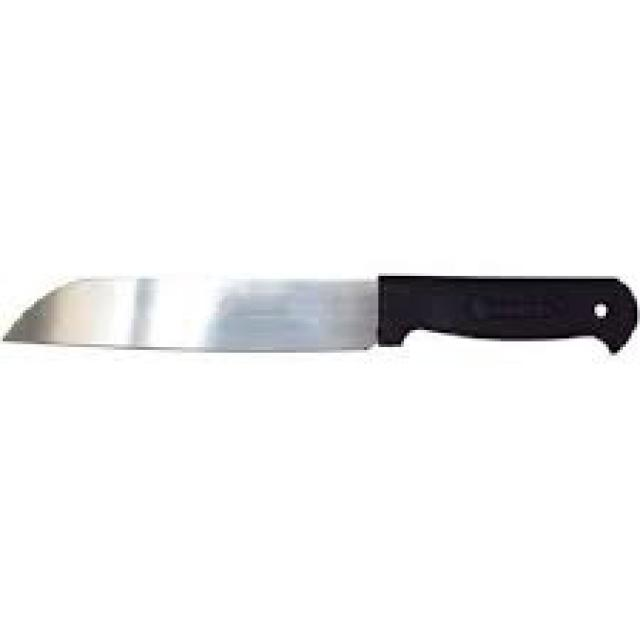Knife: (6, 273, 637, 356)
